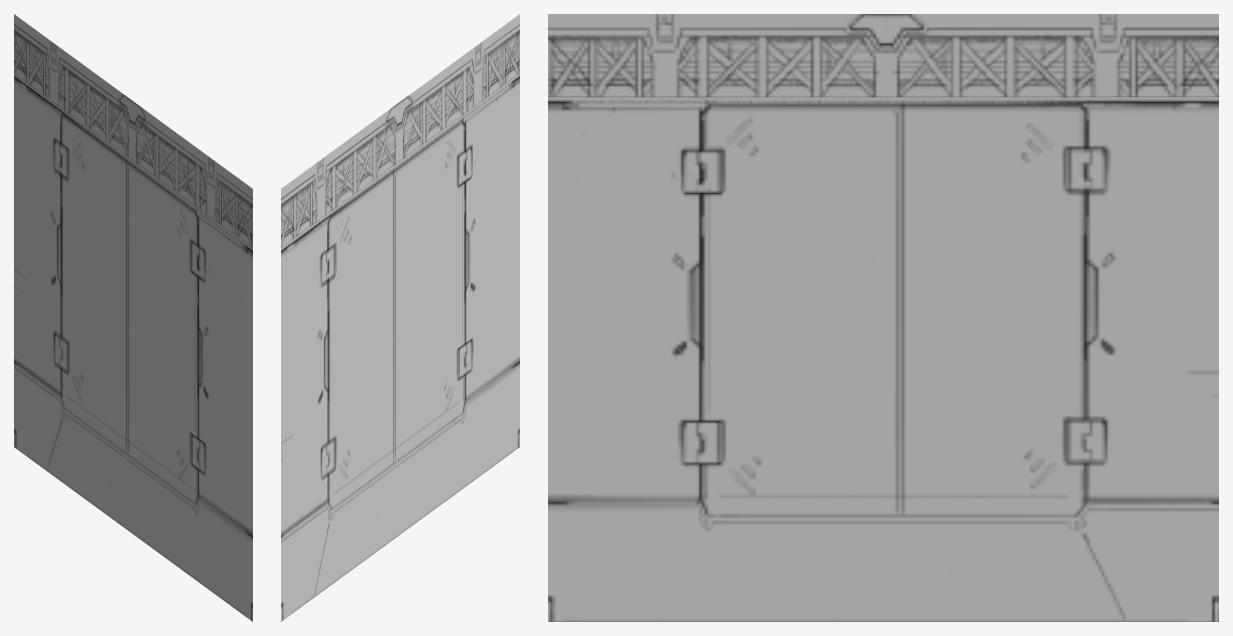
The model's file is WallsidepCube9.fbx.
3 renders of one model, left to right at view 1: azimuth 30°, elevation 25°; view 2: azimuth 150°, elevation 25°; view 3: azimuth 270°, elevation 25°, orthographic. The views are drawn at different scales.
Visible parts, largest first — view 1: pCube9; view 2: pCube9; view 3: pCube9.
Boxes of the visible parts, <box> form: pCube9: <box>14,14,252,621</box>; pCube9: <box>281,14,519,621</box>; pCube9: <box>548,14,1218,621</box>.
Bounding box in the file's own units: 0 × 100 × 100.
Materials: 1 (1 with a texture image).
